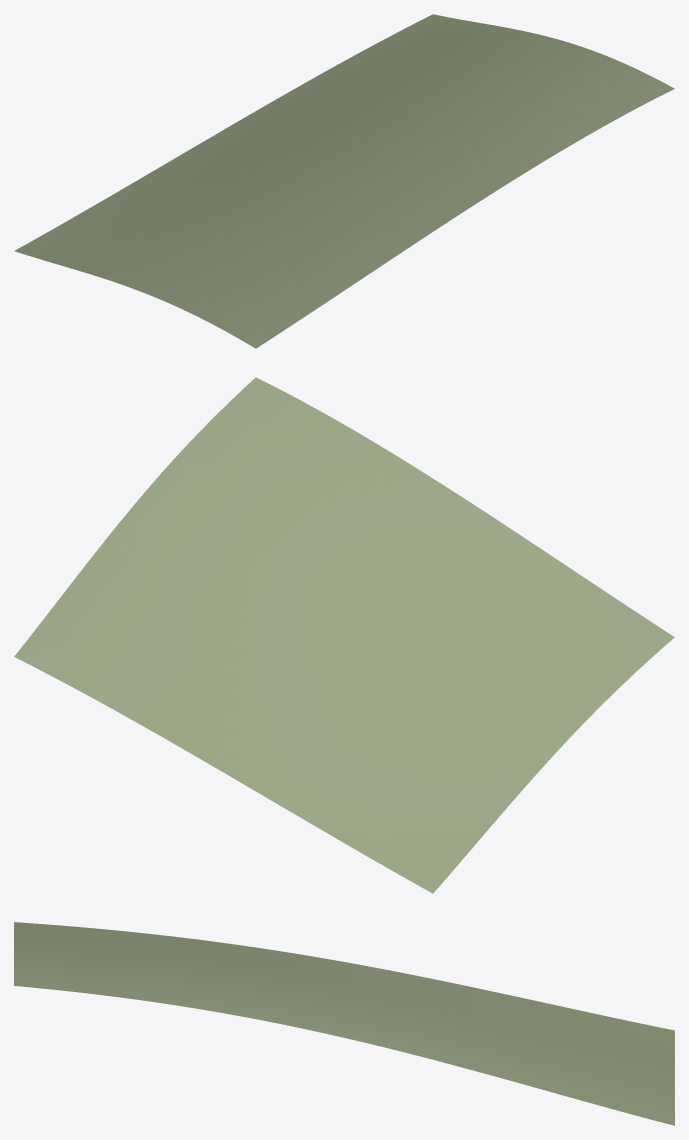
File: expanse-25-11.glb
3 renders of one model, top to bottom at view 1: azimuth 30°, elevation 25°; view 2: azimuth 150°, elevation 25°; view 3: azimuth 270°, elevation 25°, orthographic. The views are drawn at different scales.
Visible parts, largest first — view 1: expanse-25-11; view 2: expanse-25-11; view 3: expanse-25-11.
Part boxes in pixels (x1,y1,x2,y2): expanse-25-11: [14, 14, 674, 348]; expanse-25-11: [14, 377, 674, 893]; expanse-25-11: [14, 922, 674, 1125].
Bounding box in the file's own units: 256 × 138 × 256.
